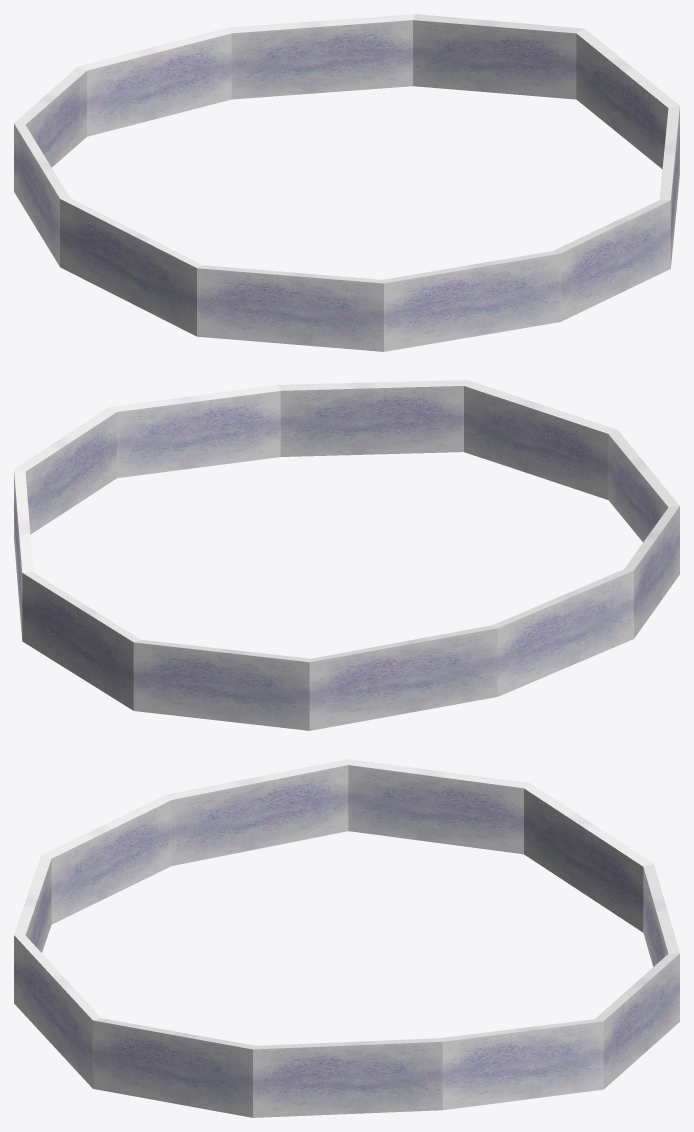
Rendered from planet-stardust01.glb.
3 renders of one model, top to bottom at view 1: azimuth 30°, elevation 25°; view 2: azimuth 150°, elevation 25°; view 3: azimuth 270°, elevation 25°, orthographic.
Parts seen in each view (by area): view 1: PlanetStardust01; view 2: PlanetStardust01; view 3: PlanetStardust01.
Part boxes in pixels (x1,y1,x2,y2): PlanetStardust01: (14,14,679,351); PlanetStardust01: (14,380,679,730); PlanetStardust01: (14,759,679,1117).
Bounding box in the file's own units: 6.24 × 1.04 × 6.3.
Materials: 1 (1 with a texture image).
